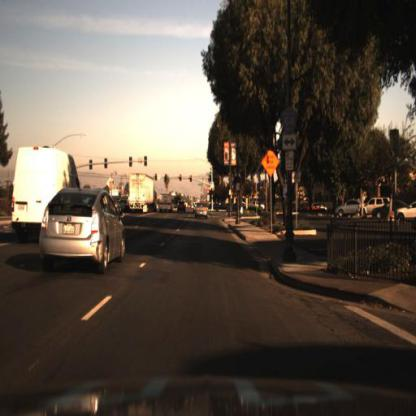car: (38, 183, 128, 275), (11, 144, 79, 237), (372, 199, 412, 220), (334, 193, 364, 219), (158, 190, 176, 217), (363, 193, 381, 220), (370, 200, 393, 221), (193, 202, 209, 222), (119, 196, 133, 215), (176, 197, 189, 215)
trafficLight-Red: (153, 172, 160, 186), (178, 171, 185, 183), (189, 172, 194, 186), (163, 171, 168, 183), (211, 185, 216, 196)
truck: (127, 166, 159, 211)
